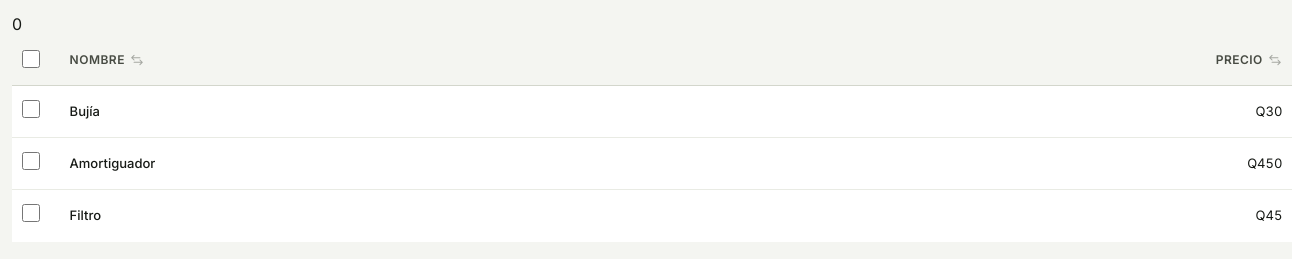
Test: DataTable › selecciona filas y 'todas' con casillas accesibles
Click the checkbox named "Seleccionar Bujía" at [31, 109], box [22,100,40,118]
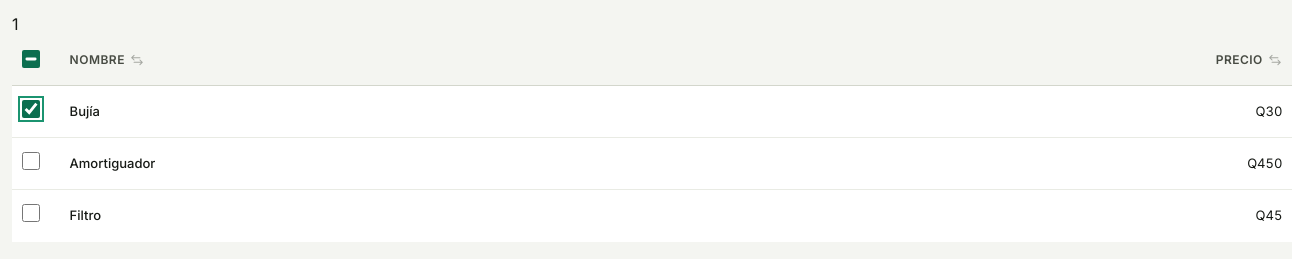
Expected: the text with test id "n" reads "1", [12,14,18,34]
Click the checkbox named "seleccionar todas" at [31, 59], box [22,50,40,68]
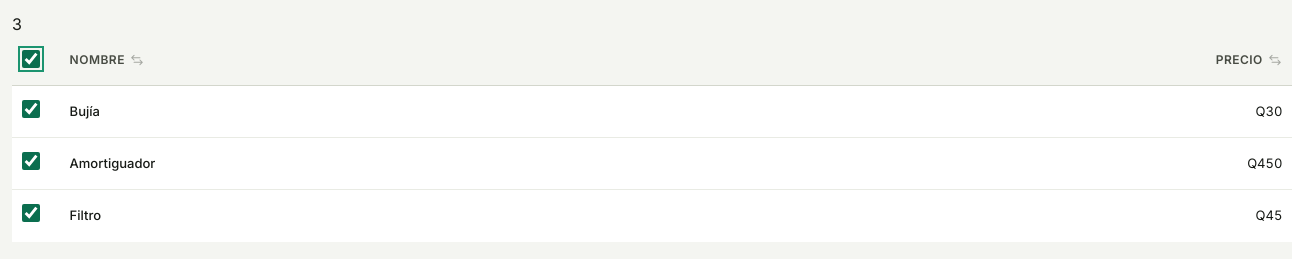
Expected: the text with test id "n" reads "3", [12,14,22,34]
Click the checkbox named "seleccionar todas" at [31, 59], box [22,50,40,68]
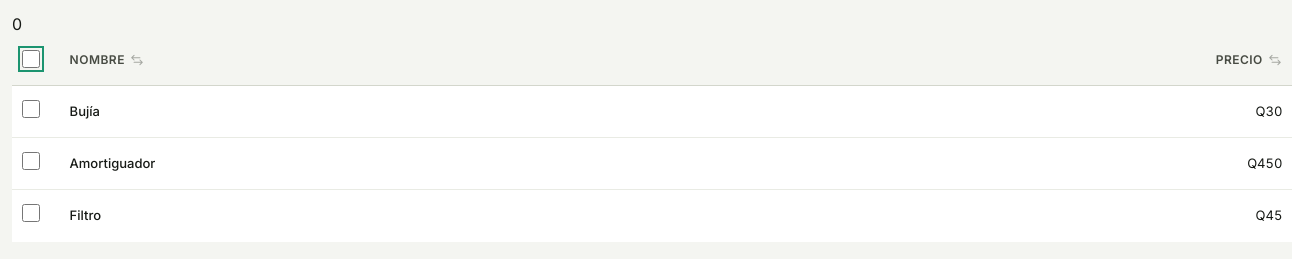
Expected: the text with test id "n" reads "0", [12,14,22,34]
